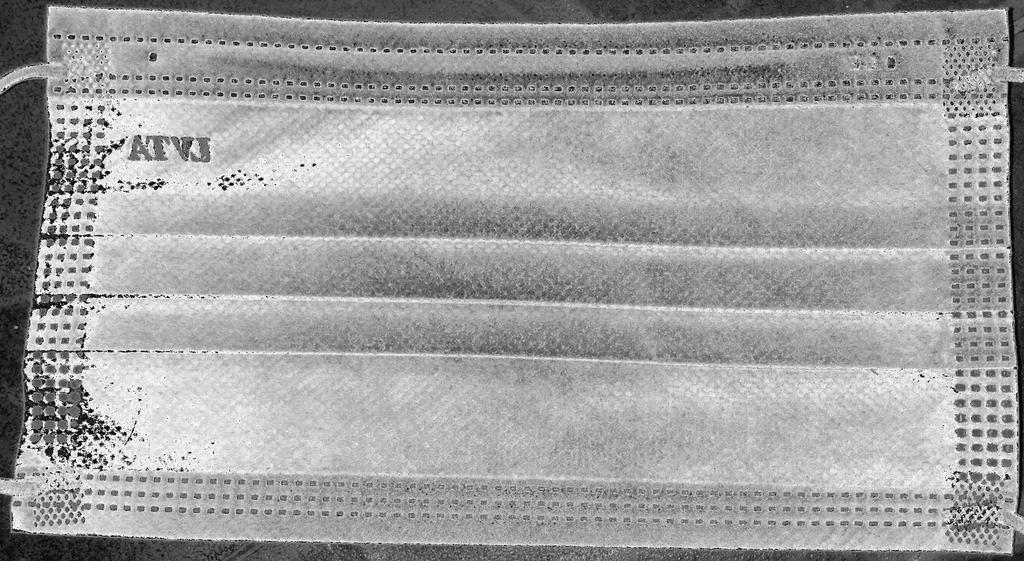High GSM: (7, 1, 1023, 560)
